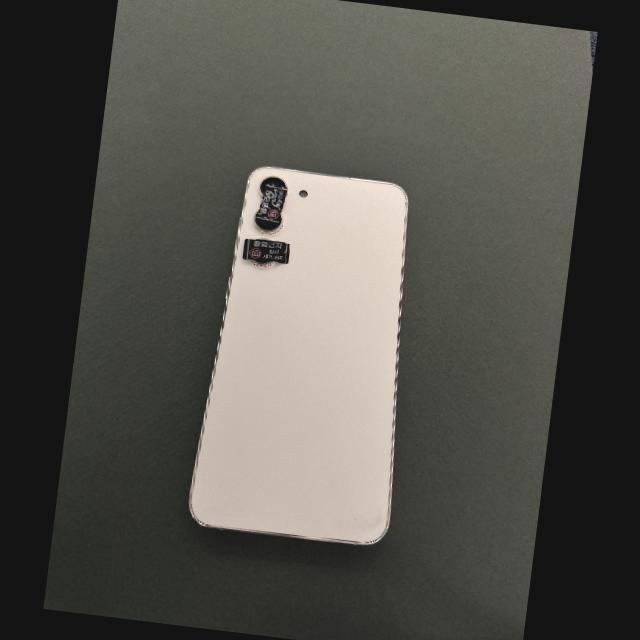lens: (255, 212, 282, 234), (259, 176, 287, 196), (251, 259, 275, 267)
phone: (189, 166, 407, 544)
sticker: (256, 182, 287, 226), (242, 239, 289, 264)
